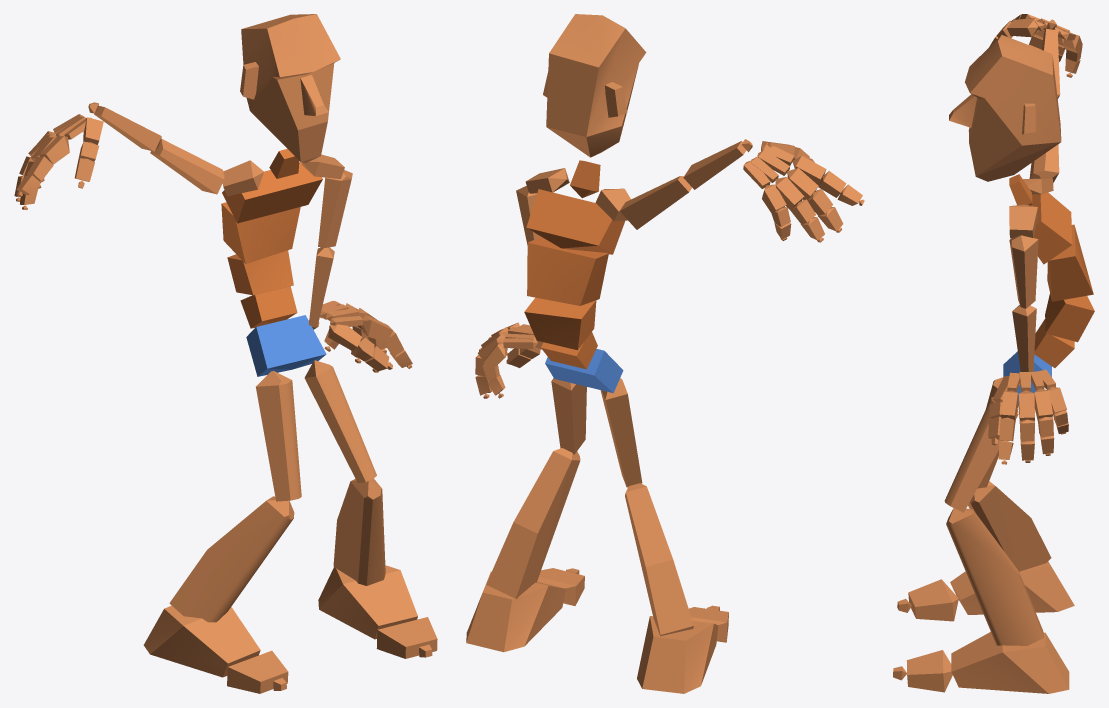
3 renders of one model, left to right at view 1: azimuth 30°, elevation 25°; view 2: azimuth 150°, elevation 25°; view 3: azimuth 270°, elevation 25°, orthographic. The views are drawn at different scales.
Parts seen in each view (by area): view 1: BOPED_Head, BOPED_R_leg, BOPED_R_foot, BOPED_L_leg, BOPED_R_foot01, BOPED_R_legup, BOPED_L_legup, Bone01, Bone04, Bone05, Bone03, BOPED_R_arm_upper (+9 smaller); view 2: BOPED_Head, BOPED_L_leg, BOPED_R_leg, BOPED_R_foot01, BOPED_R_foot, Bone04, Bone05, Bone03, BOPED_R_legup, BOPED_L_legup, Bone01, BOPED_R_arm_upper (+8 smaller); view 3: BOPED_Head, BOPED_L_leg, BOPED_R_foot01, BOPED_R_leg, BOPED_R_foot, BOPED_L_legup, Bone05, Bone04, Bone03, BOPED_L_arm_upper, BOPED_R_foot_toe01, BOPED_R_foot_toe04 (+16 smaller).
Boxes of the visible parts, x1,y1,x2,y2 form: BOPED_Head: [240, 14, 340, 163]; BOPED_R_leg: [169, 496, 294, 622]; BOPED_R_foot: [143, 605, 260, 677]; BOPED_L_leg: [333, 478, 385, 585]; BOPED_R_foot01: [318, 565, 417, 639]; BOPED_R_legup: [256, 371, 301, 501]; BOPED_L_legup: [304, 360, 376, 483]; Bone01: [246, 315, 326, 376]; Bone04: [221, 202, 300, 263]; Bone05: [222, 162, 322, 223]; Bone03: [227, 250, 293, 295]; BOPED_R_arm_upper: [150, 138, 225, 194]; BOPED_Head: [543, 14, 646, 157]; BOPED_L_leg: [486, 448, 580, 598]; BOPED_R_leg: [625, 483, 693, 635]; BOPED_R_foot01: [466, 571, 565, 652]; BOPED_R_foot: [637, 616, 718, 693]; Bone04: [527, 237, 608, 305]; Bone05: [526, 189, 624, 254]; Bone03: [524, 297, 596, 350]; BOPED_R_legup: [600, 378, 642, 487]; BOPED_L_legup: [551, 378, 586, 454]; Bone01: [545, 349, 623, 393]; BOPED_R_arm_upper: [620, 176, 692, 229]; BOPED_Head: [949, 35, 1061, 181]; BOPED_L_leg: [946, 508, 1043, 645]; BOPED_R_foot01: [951, 632, 1069, 693]; BOPED_R_leg: [968, 481, 1051, 571]; BOPED_R_foot: [950, 561, 1074, 614]; BOPED_L_legup: [944, 397, 1018, 512]; Bone05: [1031, 192, 1072, 264]; Bone04: [1047, 224, 1093, 301]; Bone03: [1045, 293, 1094, 342]; BOPED_L_arm_upper: [1009, 235, 1038, 308]; BOPED_R_foot_toe01: [908, 579, 958, 621]; BOPED_R_foot_toe04: [906, 650, 952, 692].
Bounding box in the file's own units: 121 × 186 × 56.5.
